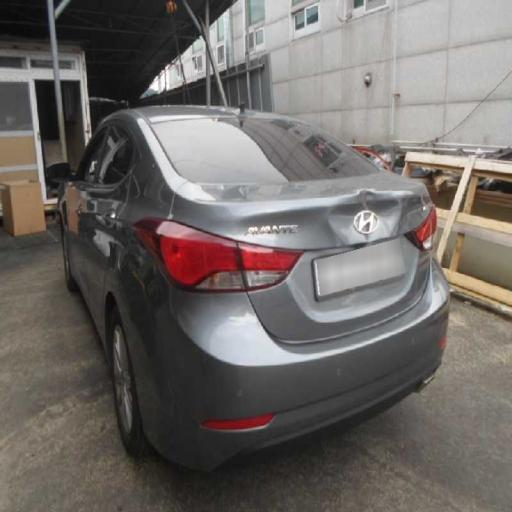dent: (102, 142, 414, 260)
scratch: (222, 356, 363, 424)
